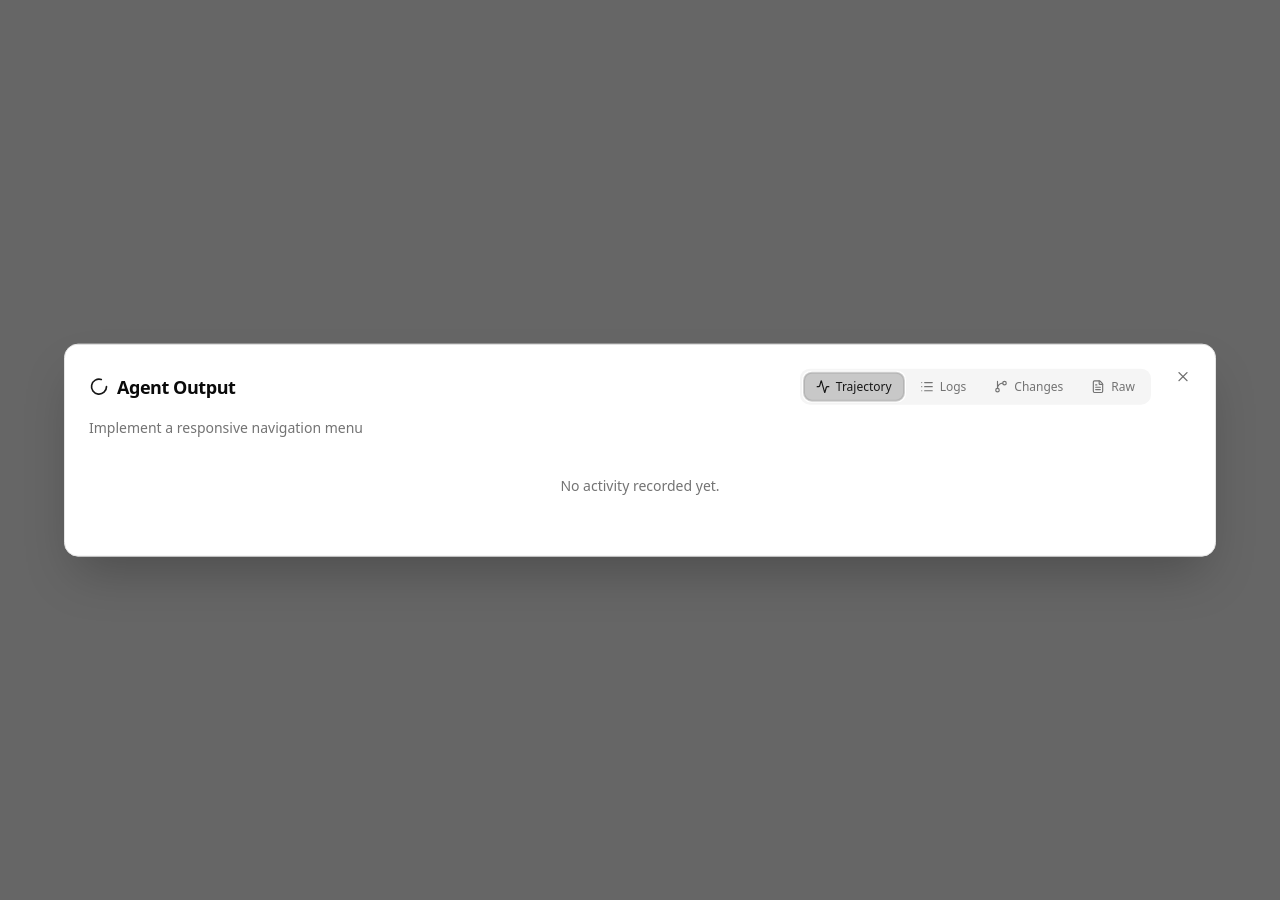
Test case: AgentOutputModal Integration Tests › Content Display › should show loading state when output is loading (after switching to Logs view)
Click the button with test id "view-mode-parsed" at (943, 387), box 908,373 -> 978,401
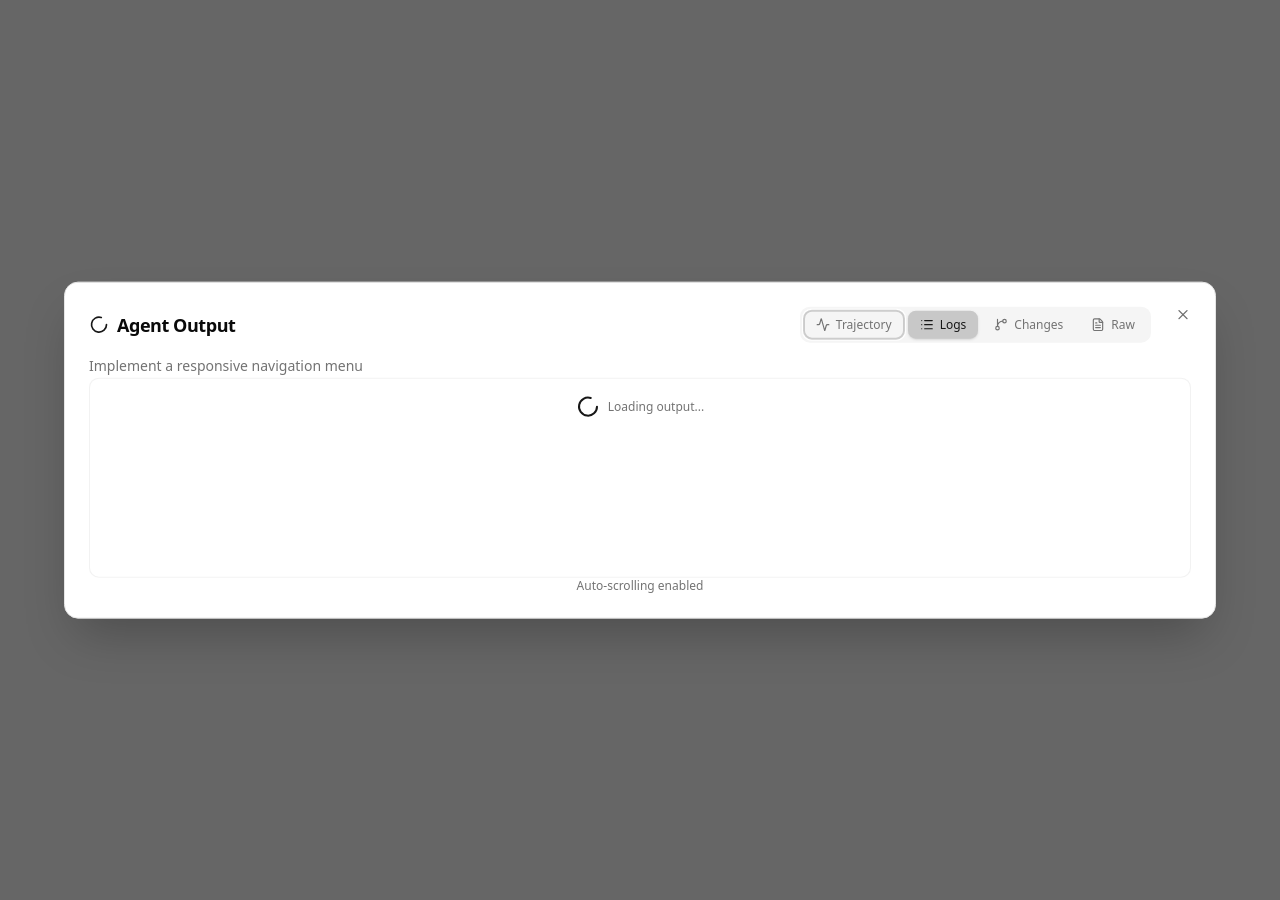
Expected: the text "Loading output..." is shown, 576,394 -> 704,418
